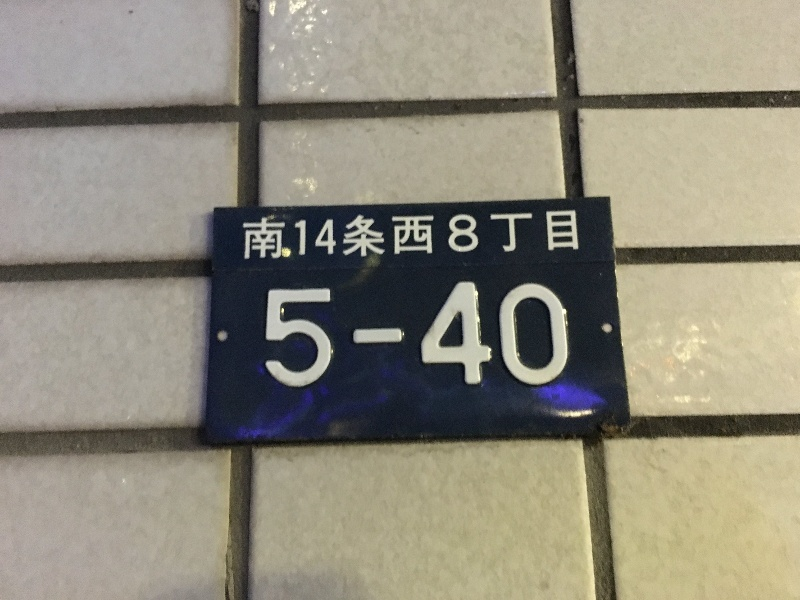text: (273, 279, 288, 388), (289, 279, 304, 388), (305, 279, 320, 388), (321, 279, 336, 388), (337, 279, 352, 388), (353, 279, 368, 388), (369, 279, 384, 388), (385, 279, 400, 388), (401, 279, 416, 388), (417, 279, 432, 388), (433, 279, 448, 388), (449, 279, 464, 388), (465, 279, 480, 388), (481, 279, 496, 388), (497, 279, 512, 388), (513, 279, 528, 388), (529, 279, 544, 388), (545, 279, 560, 388), (561, 279, 568, 388), (257, 211, 272, 259), (273, 211, 288, 259), (289, 211, 304, 259), (305, 211, 320, 259), (321, 211, 336, 259), (337, 211, 352, 259), (353, 211, 368, 259), (369, 211, 384, 259), (385, 211, 400, 259), (401, 211, 416, 259), (417, 211, 432, 259), (433, 211, 448, 259), (449, 211, 464, 259), (465, 211, 480, 259), (481, 211, 496, 259), (497, 211, 512, 259), (513, 211, 528, 259), (529, 211, 544, 259), (545, 211, 560, 259), (561, 211, 576, 259), (243, 211, 256, 259), (268, 279, 272, 388), (577, 211, 579, 259)
